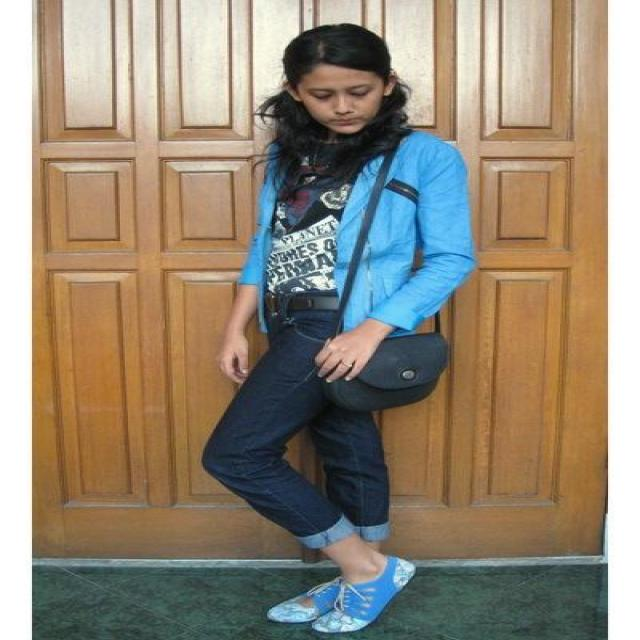bag: (306, 323, 451, 408)
jacket: (238, 132, 474, 331)
pants: (202, 305, 388, 537)
shirt: (268, 176, 354, 289)
shoe: (268, 557, 414, 631)
